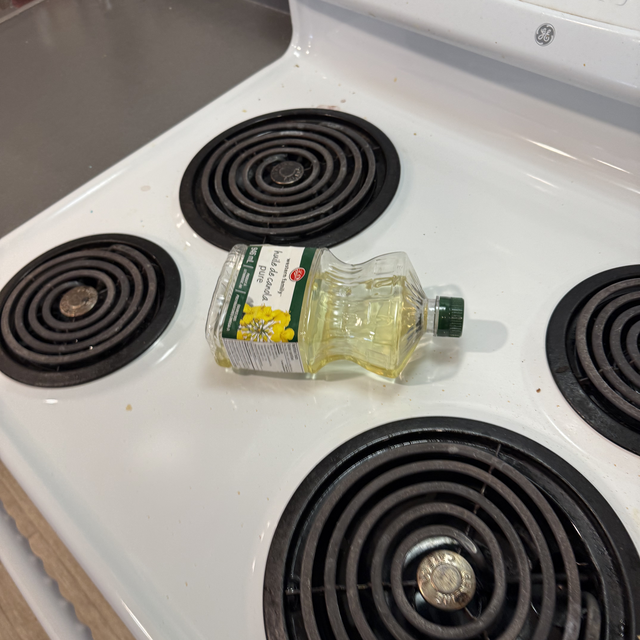Canola Oil: (203, 239, 473, 383)
Stove: (0, 0, 640, 640)
